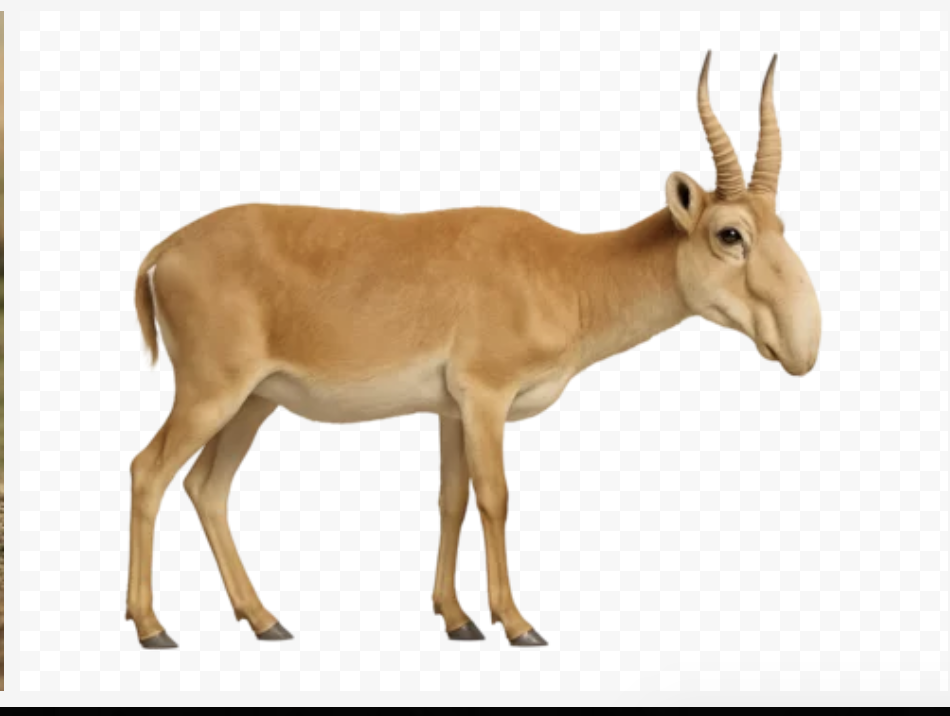saiga: (138, 34, 862, 693)
